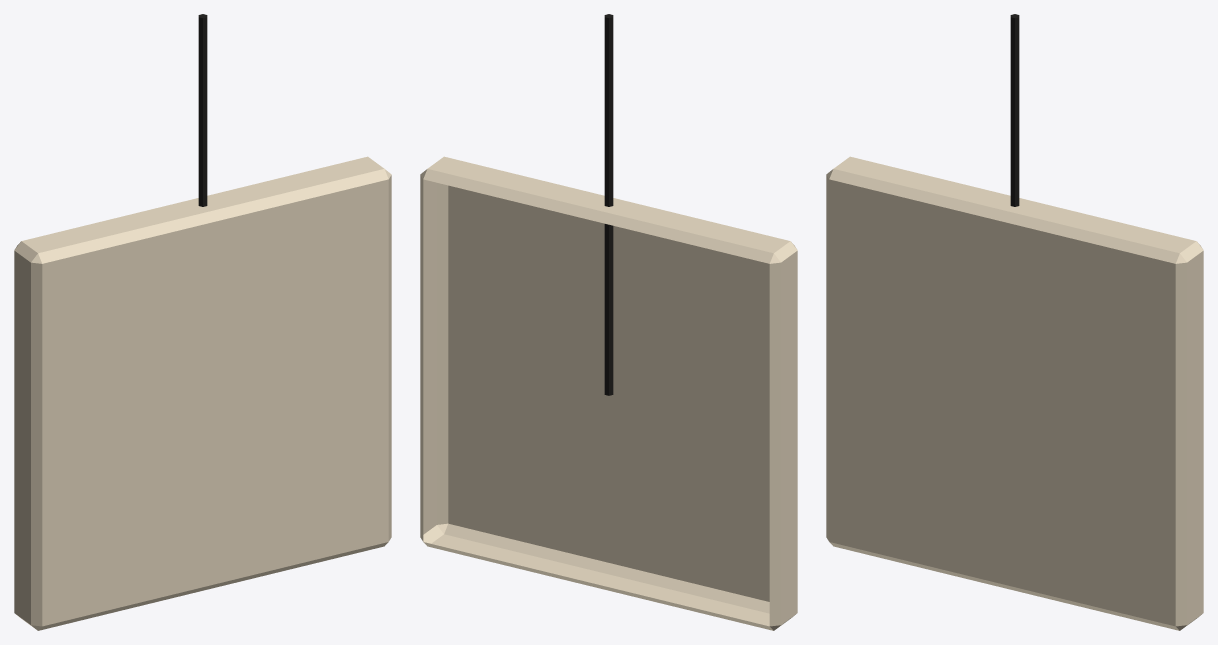
The model's file is lightbox.glb.
3 renders of one model, left to right at view 1: azimuth 30°, elevation 25°; view 2: azimuth 150°, elevation 25°; view 3: azimuth 330°, elevation 25°, orthographic.
Parts seen in each view (by area): view 1: lightbox_body, lightbox_rod; view 2: lightbox_body, lightbox_rod; view 3: lightbox_body, lightbox_rod.
Part boxes in pixels (box(x1,y1,x2,y2)): lightbox_body: box(14, 156, 391, 630); lightbox_rod: box(198, 14, 207, 206); lightbox_body: box(420, 156, 797, 630); lightbox_rod: box(604, 14, 613, 395); lightbox_body: box(826, 156, 1203, 630); lightbox_rod: box(1010, 14, 1019, 206).
Bounding box in the file's own units: 1 × 1.5 × 0.12.
